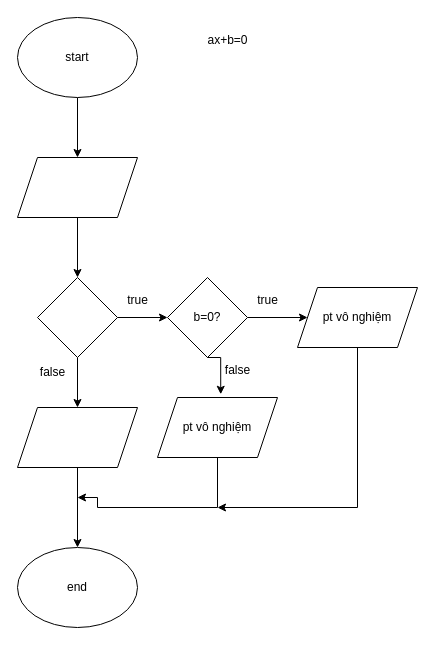
Image size: 435x645. Some labels were removed from this diagram. The shapes that lost their labels are listed below. From the top down, each one's box as (x1, y1, x2, y2) in pixels, then its label:
(16, 156, 138, 218): nhập a ,b
(36, 276, 118, 358): a=0?
(16, 406, 138, 468): x=-b/a
